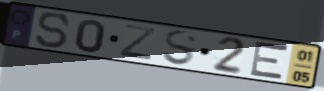0: (72, 17, 108, 54)
2: (211, 36, 248, 76)
E: (247, 39, 292, 84)
S: (160, 30, 200, 68), (35, 11, 73, 50)
Z: (117, 23, 159, 63)
